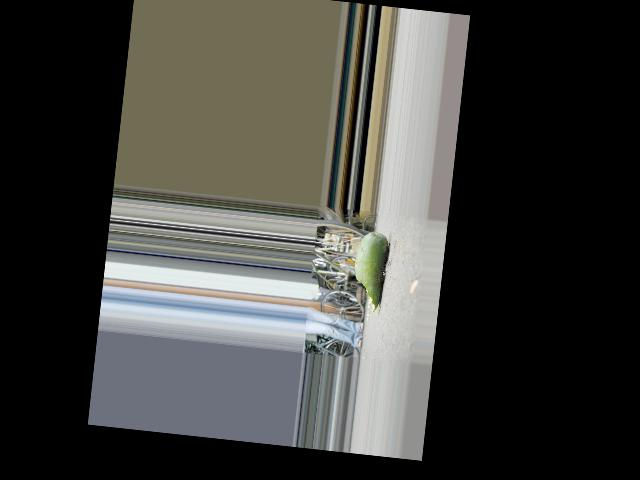cucumber: (350, 230, 390, 314)
